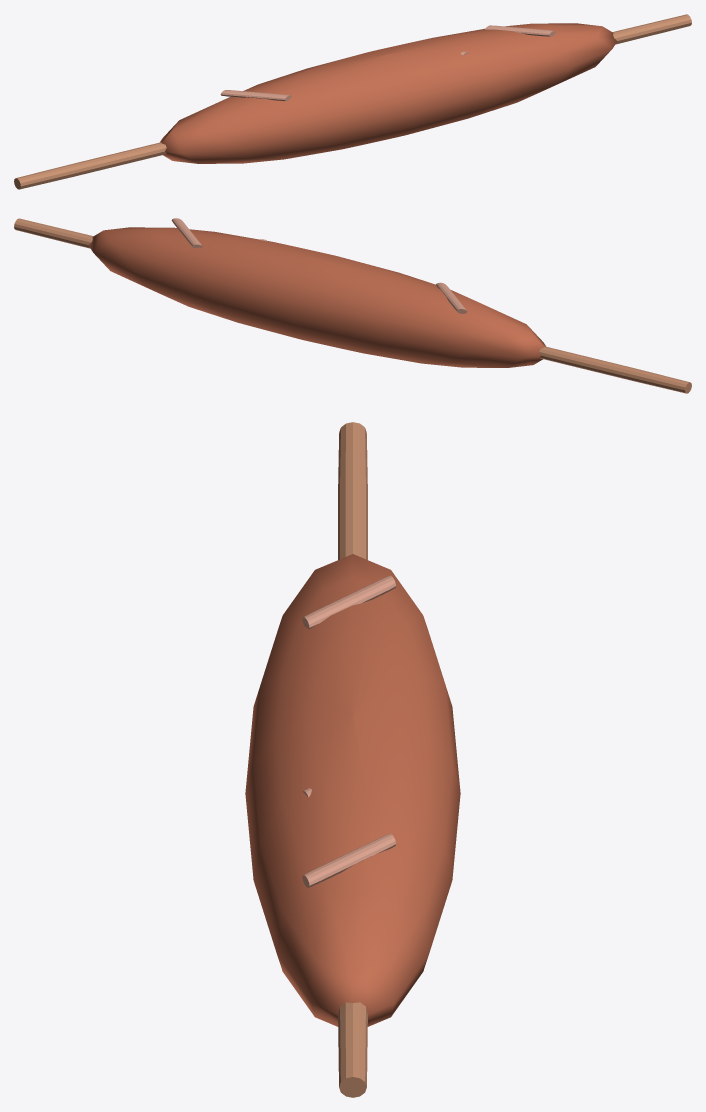
File: sausage_skewer.glb
3 views of the same model, one above another, from view 1: azimuth 30°, elevation 25°; view 2: azimuth 150°, elevation 25°; view 3: azimuth 270°, elevation 25° (orthographic). The views are drawn at different scales.
Visible parts, largest first — view 1: model; view 2: model; view 3: model.
Part boxes in pixels (<box>): model: <box>14,14,691,189</box>; model: <box>14,218,691,393</box>; model: <box>245,422,460,1097</box>.
Bounding box in the file's own units: 0.36 × 0.04 × 0.05.
